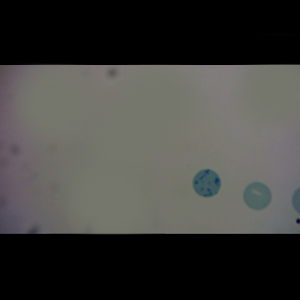aggregate reticulocyte: (192, 168, 222, 198)
erythrocyte: (242, 181, 272, 211)
